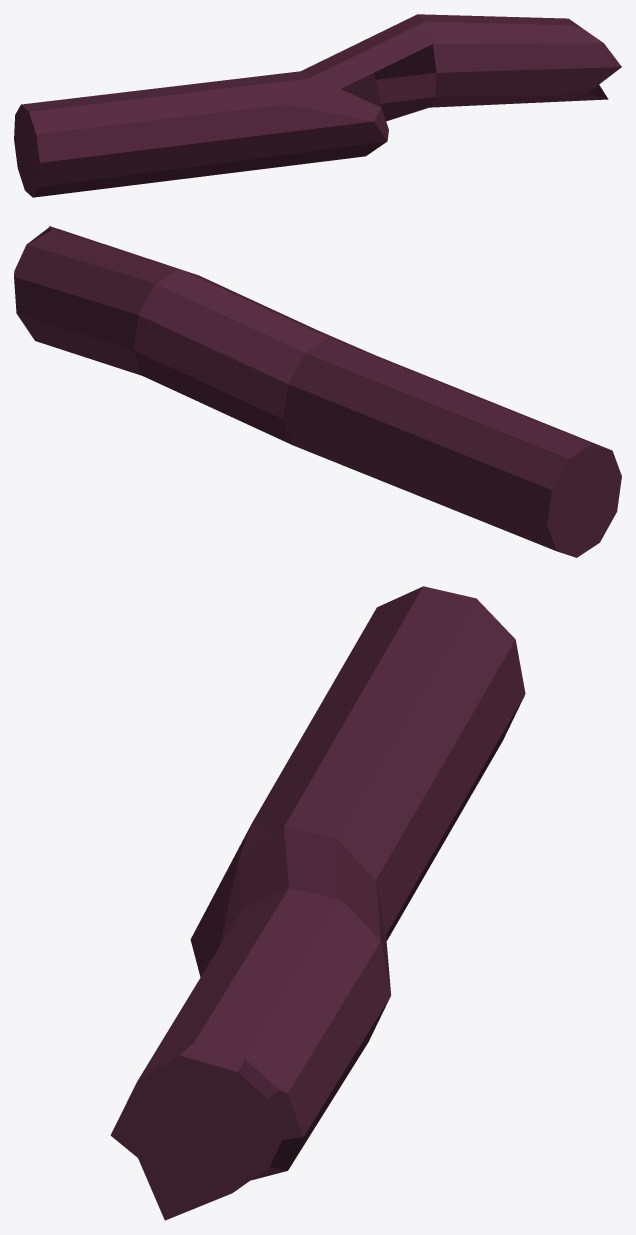
File: trunk_001_grp.fbx
3 views of the same model, one above another, from view 1: azimuth 30°, elevation 25°; view 2: azimuth 150°, elevation 25°; view 3: azimuth 270°, elevation 25° (orthographic). The views are drawn at different scales.
Parts seen in each view (by area): view 1: trunk_001_grp; view 2: trunk_001_grp; view 3: trunk_001_grp.
Boxes of the visible parts, bbox=[...] form: trunk_001_grp: bbox=[14, 14, 621, 197]; trunk_001_grp: bbox=[14, 226, 621, 557]; trunk_001_grp: bbox=[110, 586, 525, 1220].
Size of the model in its own units: 580 by 120 by 200.
